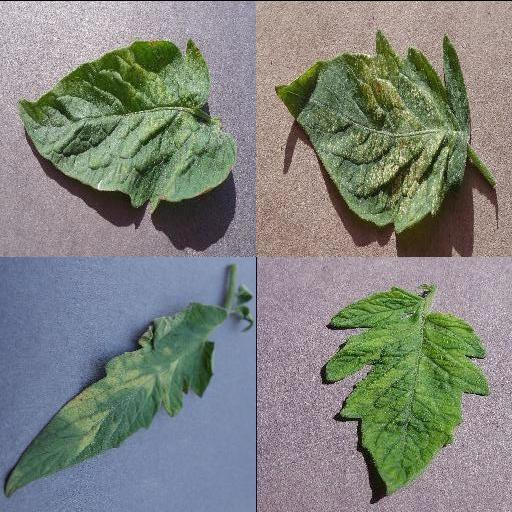Leaf Mold: (3, 300, 229, 497)
Mosaic Virus: (324, 286, 492, 496)
Spider Mites: (274, 29, 470, 231), (16, 37, 238, 202)
